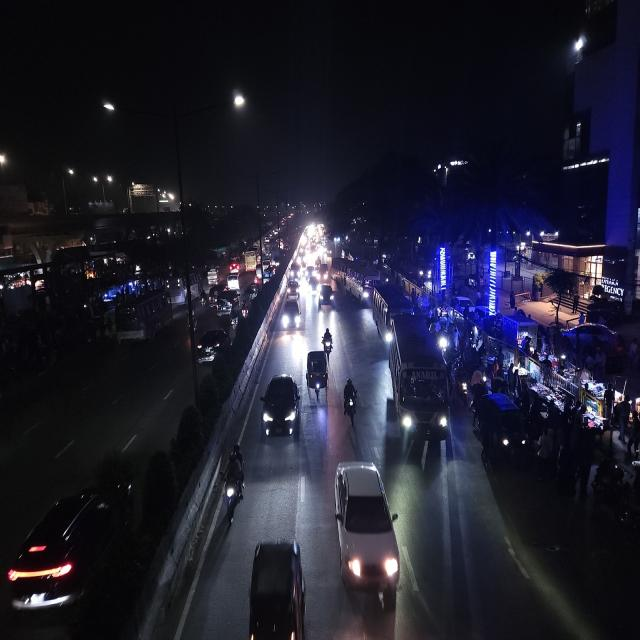bus: (385, 314, 450, 451), (115, 287, 173, 349), (370, 283, 412, 340), (346, 265, 376, 306), (244, 249, 259, 272)
car: (3, 466, 136, 629), (332, 457, 402, 611), (258, 368, 300, 445), (196, 325, 229, 365), (280, 294, 304, 334), (216, 288, 238, 318), (318, 281, 336, 313), (285, 277, 301, 300), (226, 268, 240, 290)
cng: (475, 390, 530, 469), (305, 346, 329, 402)
motorcycle: (220, 442, 248, 524), (342, 374, 360, 428), (321, 326, 335, 356), (200, 289, 208, 309)
pickup_van: (204, 270, 220, 286)
